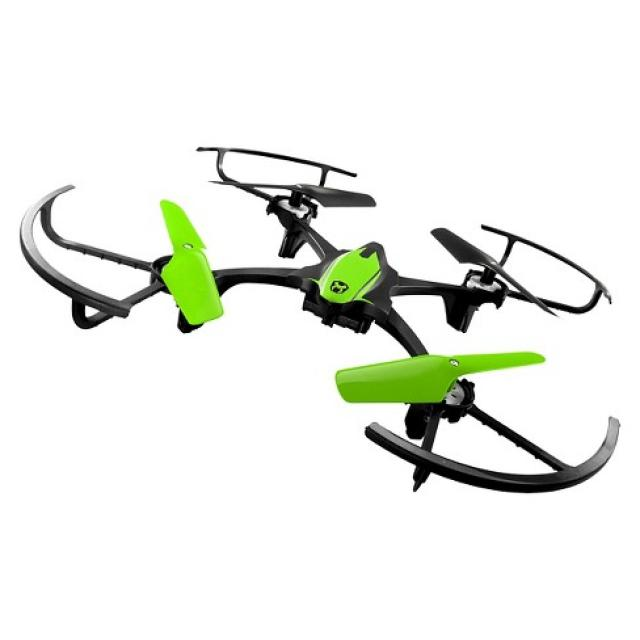drone: (11, 140, 632, 508)
